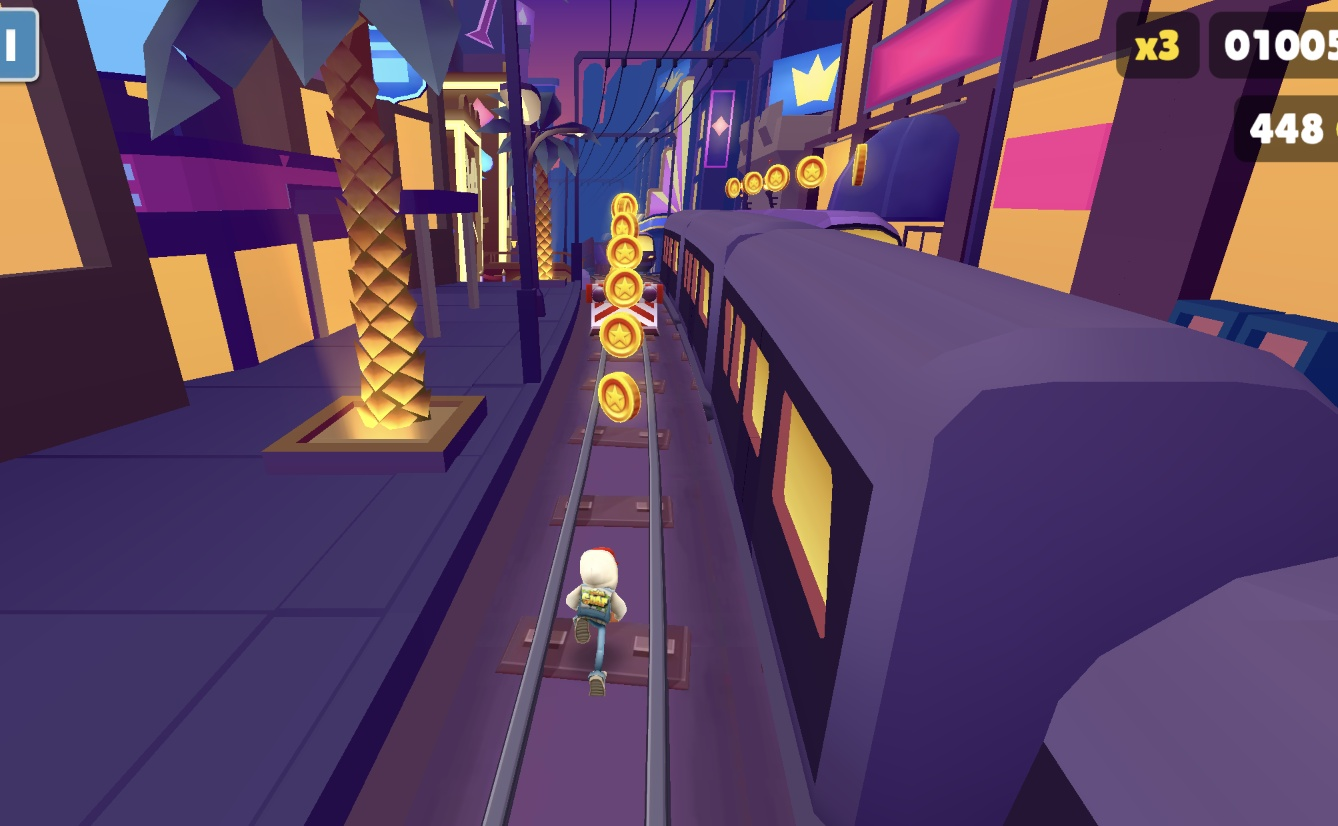train: (632, 215, 1338, 826)
